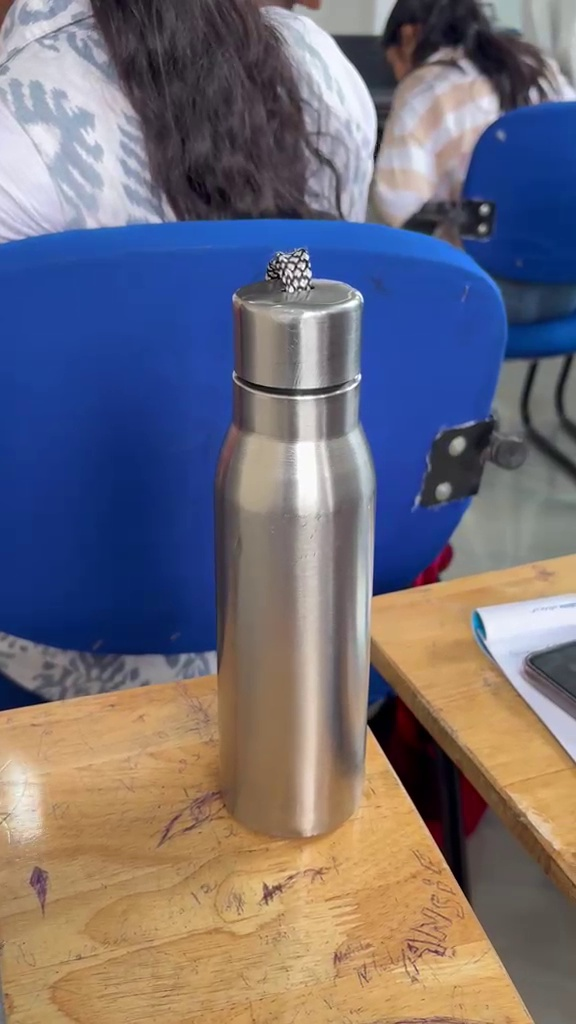Bottle: (214, 242, 389, 851)
